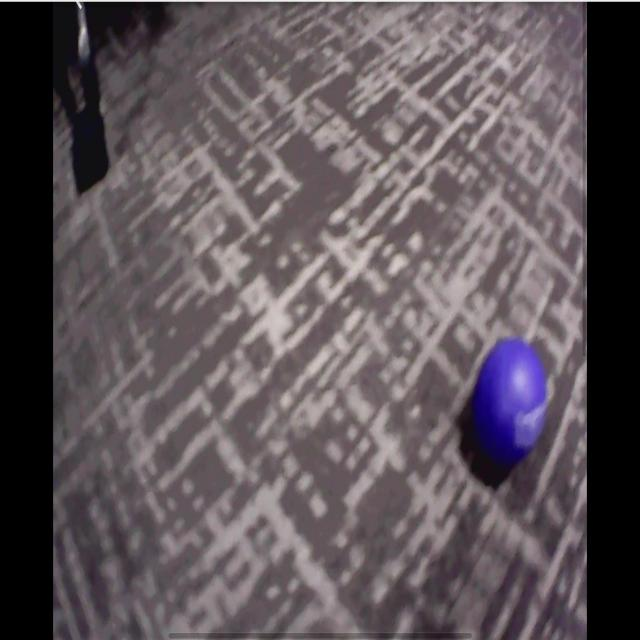ball: (475, 338, 547, 461)
